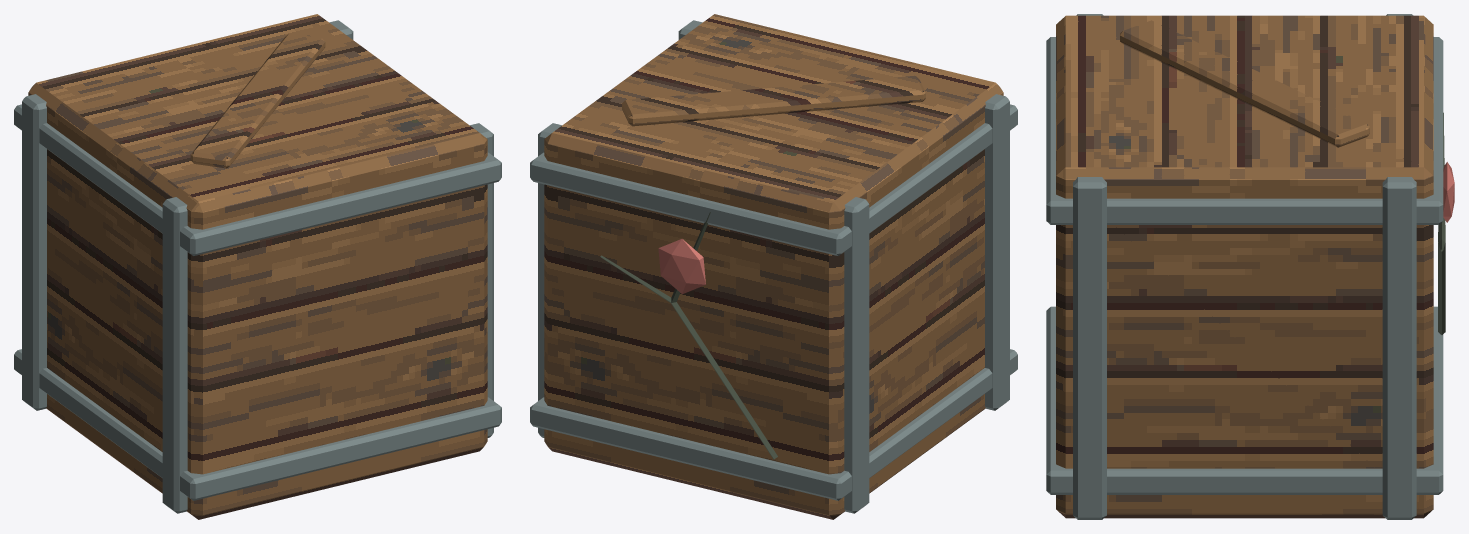
The model's file is caixa_rachada.glb.
The picture shows the model from 3 angles, left to right: view 1: azimuth 30°, elevation 25°; view 2: azimuth 150°, elevation 25°; view 3: azimuth 270°, elevation 25°; orthographic projection. The views are drawn at different scales.
Visible parts, largest first — view 1: pedreira_caixa_rachada; view 2: pedreira_caixa_rachada; view 3: pedreira_caixa_rachada.
Part boxes in pixels (x1=…): pedreira_caixa_rachada: x1=14, y1=14, x2=501, y2=519; pedreira_caixa_rachada: x1=530, y1=14, x2=1017, y2=519; pedreira_caixa_rachada: x1=1046, y1=14, x2=1454, y2=519.
Bounding box in the file's own units: 0.842 × 0.832 × 0.8433.
4 materials, 1 textured.
